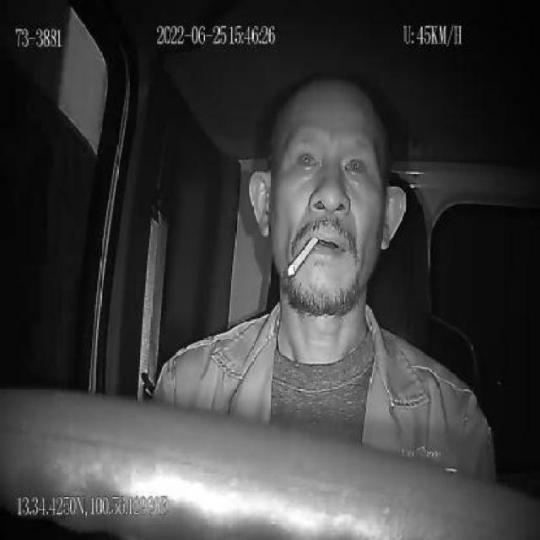smoking: (286, 236, 317, 278)
